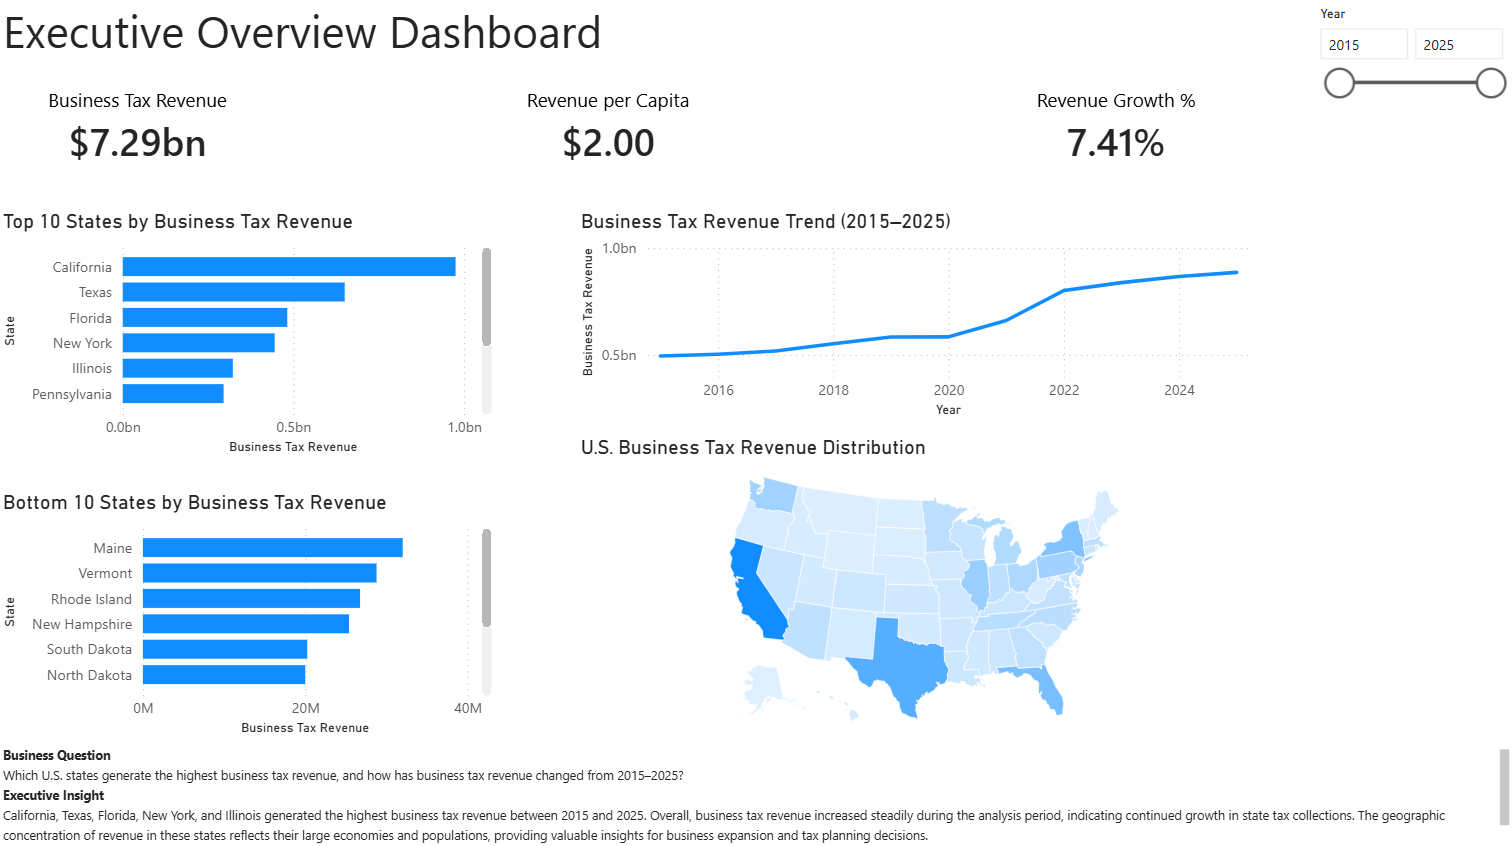

What the dashboard file says about the page in this screenshot:
{"tool":"powerbi","page":{"name":"Page 1 – Executive Overview","canvas":[1280,720],"ordinal":0},"visuals":[{"type":"shapeMap","title":"U.S. Business Tax Revenue Distribution","fields":{"Category":["fact_business_tax.State"],"Value":["fact_business_tax.Business Tax Revenue"]},"box":[487.2,370.7,575.8,257.9],"z":0},{"type":"cardVisual","fields":{"Data":["fact_business_tax.Business Tax Revenue"]},"box":[0,55.5,237.3,110.1],"z":1000},{"type":"cardVisual","fields":{"Data":["fact_business_tax.Revenue per Capita"]},"box":[407.5,55.5,216.7,110.1],"z":2000},{"type":"cardVisual","fields":{"Data":["fact_business_tax.Revenue Growth %"]},"box":[824.8,55.5,238.2,110.1],"z":3000},{"type":"lineChart","title":"Business Tax Revenue Trend (2015–2025)","fields":{"Y":["fact_business_tax.Business Tax Revenue"],"Category":["fact_business_tax.Year"]},"box":[487.2,180,575.8,180],"z":4000},{"type":"clusteredBarChart","title":"Top 10 States by Business Tax Revenue","fields":{"Y":["fact_business_tax.Business Tax Revenue"],"Category":["fact_business_tax.State"]},"box":[0,180,421.8,211.3],"z":5000},{"type":"clusteredBarChart","title":"Bottom 10 States by Business Tax Revenue","fields":{"Category":["fact_business_tax.State"],"Y":["fact_business_tax.Business Tax Revenue"]},"box":[0,417.3,421.8,211.3],"z":6000},{"type":"slicer","fields":{"Values":["fact_business_tax.Year"]},"box":[1102.4,4.5,177.3,93.1],"z":7000},{"type":"textbox","box":[0,628.7,1279.7,91.3],"z":8000},{"type":"textbox","box":[0,0,584.8,83.3],"z":9000}]}

Visuals, with their boxes in screenshot pixels (x1, y1, x2, y2), scaled from the page's 1280x720 canvas onto the 1512x846 screenshot:
"U.S. Business Tax Revenue Distribution" shapeMap: BBox(576, 436, 1256, 739)
cardVisual - fact_business_tax.Business Tax Revenue: BBox(0, 65, 280, 195)
cardVisual - fact_business_tax.Revenue per Capita: BBox(481, 65, 737, 195)
cardVisual - fact_business_tax.Revenue Growth %: BBox(974, 65, 1256, 195)
"Business Tax Revenue Trend (2015–2025)" lineChart: BBox(576, 212, 1256, 423)
"Top 10 States by Business Tax Revenue" clusteredBarChart: BBox(0, 212, 498, 460)
"Bottom 10 States by Business Tax Revenue" clusteredBarChart: BBox(0, 490, 498, 739)
slicer - fact_business_tax.Year: BBox(1302, 5, 1511, 115)
textbox: BBox(0, 739, 1511, 845)
textbox: BBox(0, 0, 691, 98)
